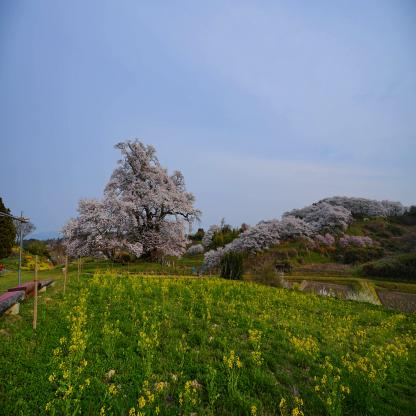EdohiganSakura: (58, 138, 202, 267)
